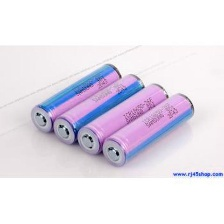battery: (100, 90, 197, 169), (75, 80, 171, 158), (28, 60, 123, 137), (51, 72, 146, 148)
